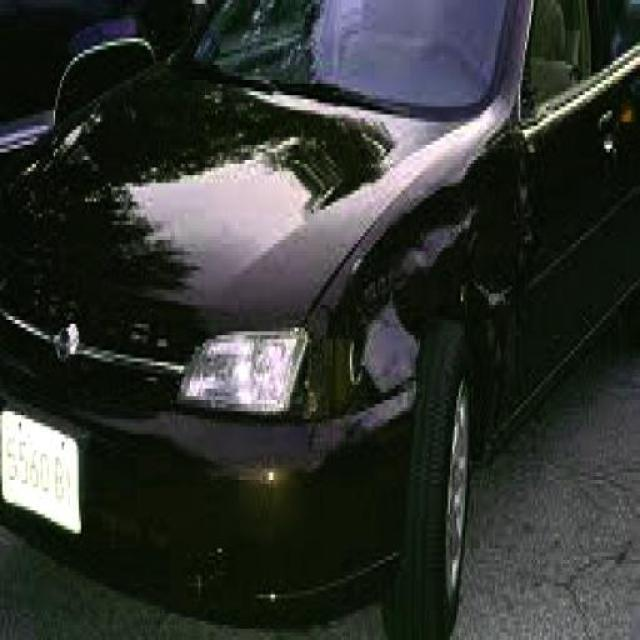car damage: (295, 141, 541, 451)
